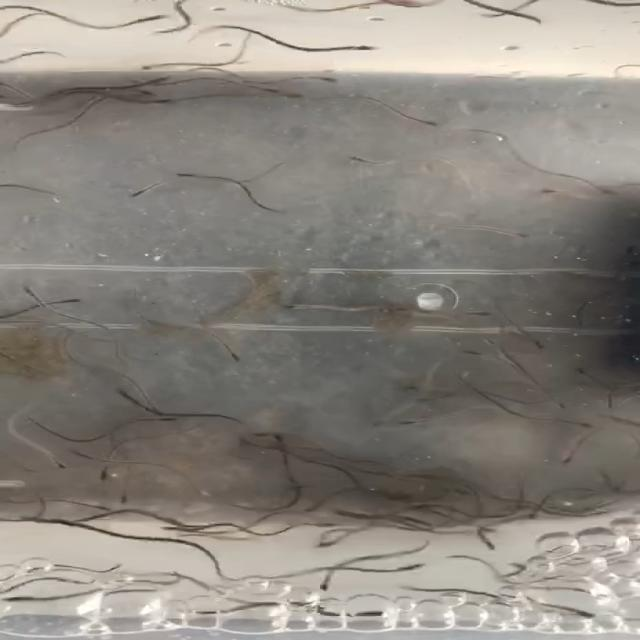active_glass_eel: (251, 84, 305, 100), (111, 482, 144, 507), (538, 388, 572, 412), (301, 72, 354, 86), (94, 461, 122, 487), (402, 112, 442, 130), (463, 302, 505, 319), (380, 560, 430, 574), (308, 536, 343, 554), (343, 148, 376, 167), (135, 8, 174, 24), (13, 281, 44, 301), (244, 427, 280, 444), (153, 521, 193, 536), (348, 605, 394, 618), (342, 40, 387, 53), (44, 291, 85, 305), (17, 514, 58, 528), (148, 412, 186, 427), (558, 416, 595, 431), (364, 416, 403, 430), (93, 86, 123, 104), (110, 388, 141, 405), (305, 498, 336, 515), (390, 413, 422, 429), (535, 184, 571, 198), (560, 448, 588, 466), (124, 83, 155, 99), (271, 298, 304, 313), (273, 432, 302, 449), (480, 533, 507, 551), (1, 594, 38, 607), (172, 168, 212, 180), (130, 61, 173, 72), (575, 607, 607, 621), (220, 349, 250, 363), (572, 362, 602, 376), (456, 344, 484, 358), (596, 186, 626, 199), (508, 231, 539, 243), (128, 185, 154, 199), (313, 577, 338, 591), (531, 337, 554, 351), (49, 453, 67, 469)
